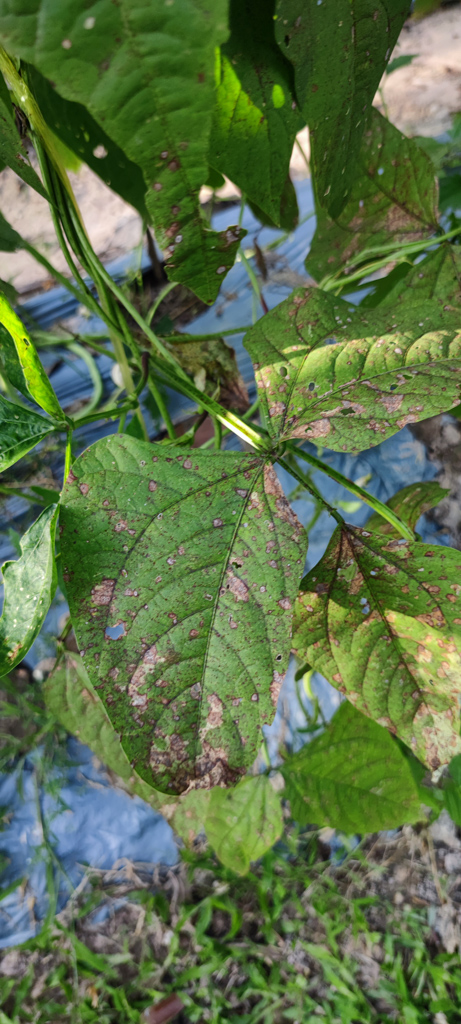Rust: (52, 436, 312, 806), (295, 530, 456, 792), (243, 290, 456, 449), (287, 110, 456, 282), (116, 140, 255, 302)
